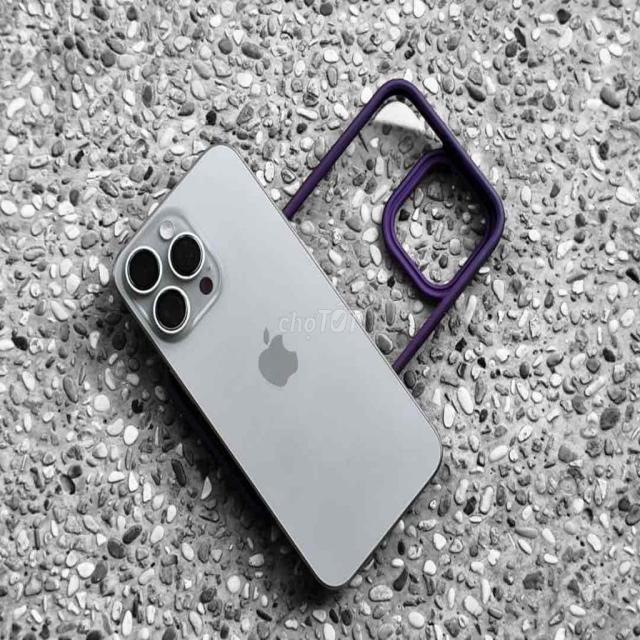gen_15: (94, 137, 452, 599)
